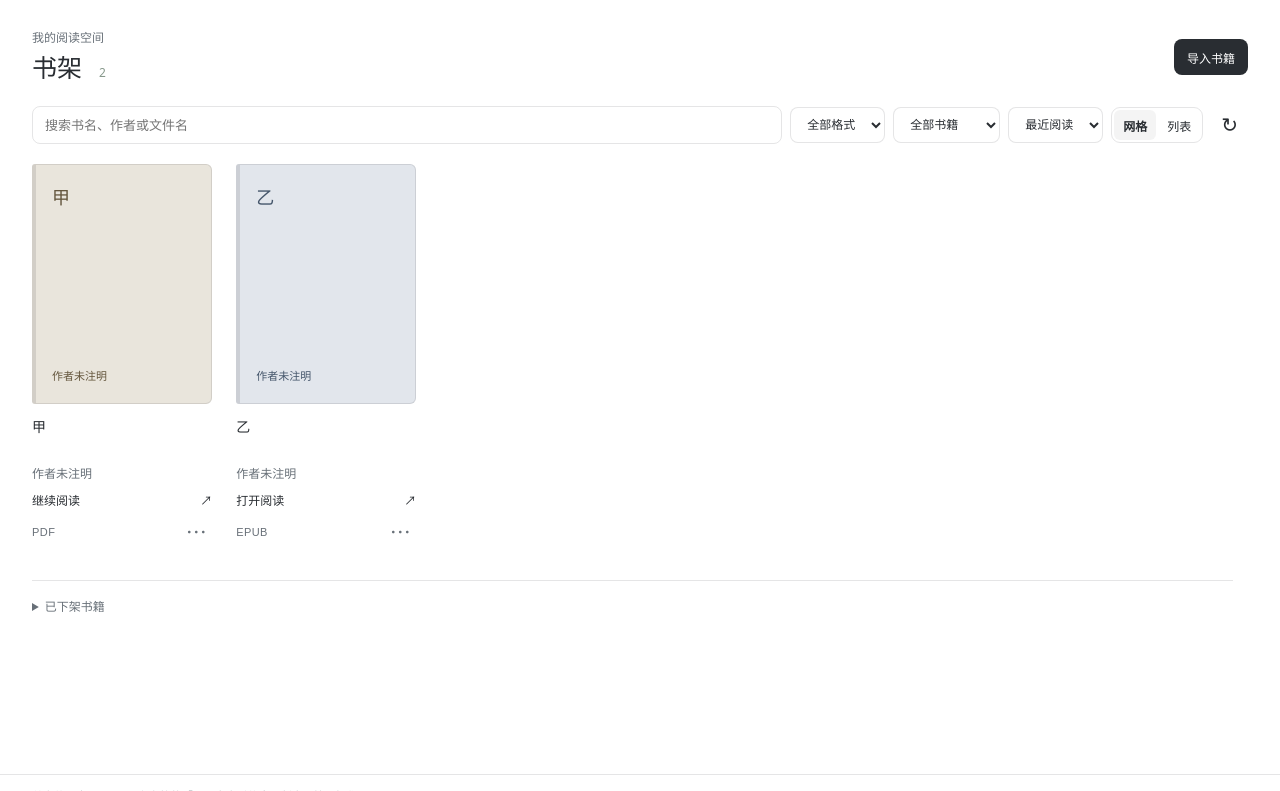
格式、阅读状态与列表组合筛选可清空，书架不丢原始记录
The image size is (1280, 791).
Select "EPUB" in the dropdown named "文件格式": coordinates (838, 125) [790,107,885,143]
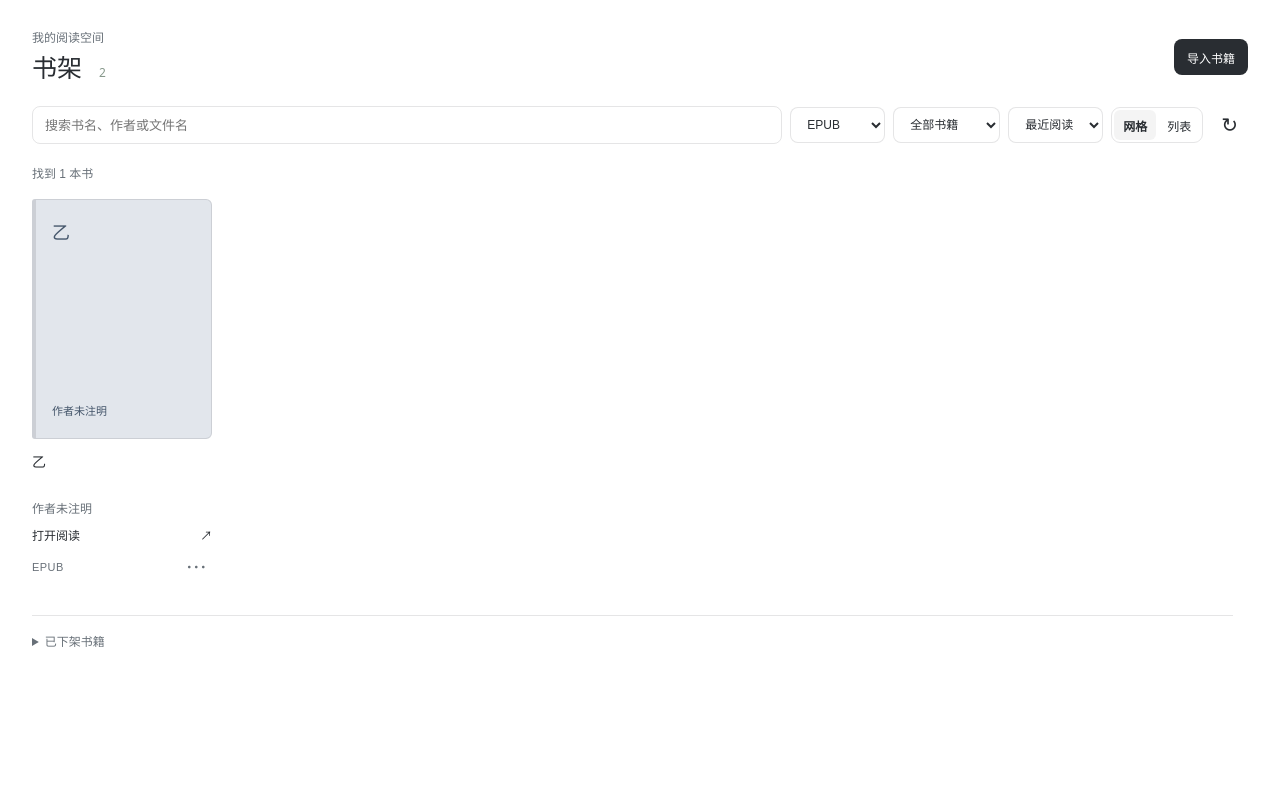
expect the number of elements with class "bookshelf-card" is 1: met, box [32,199,212,583]
Select "有阅读记录" in the dropdown named "阅读状态": coordinates (947, 125) [893,107,1000,143]
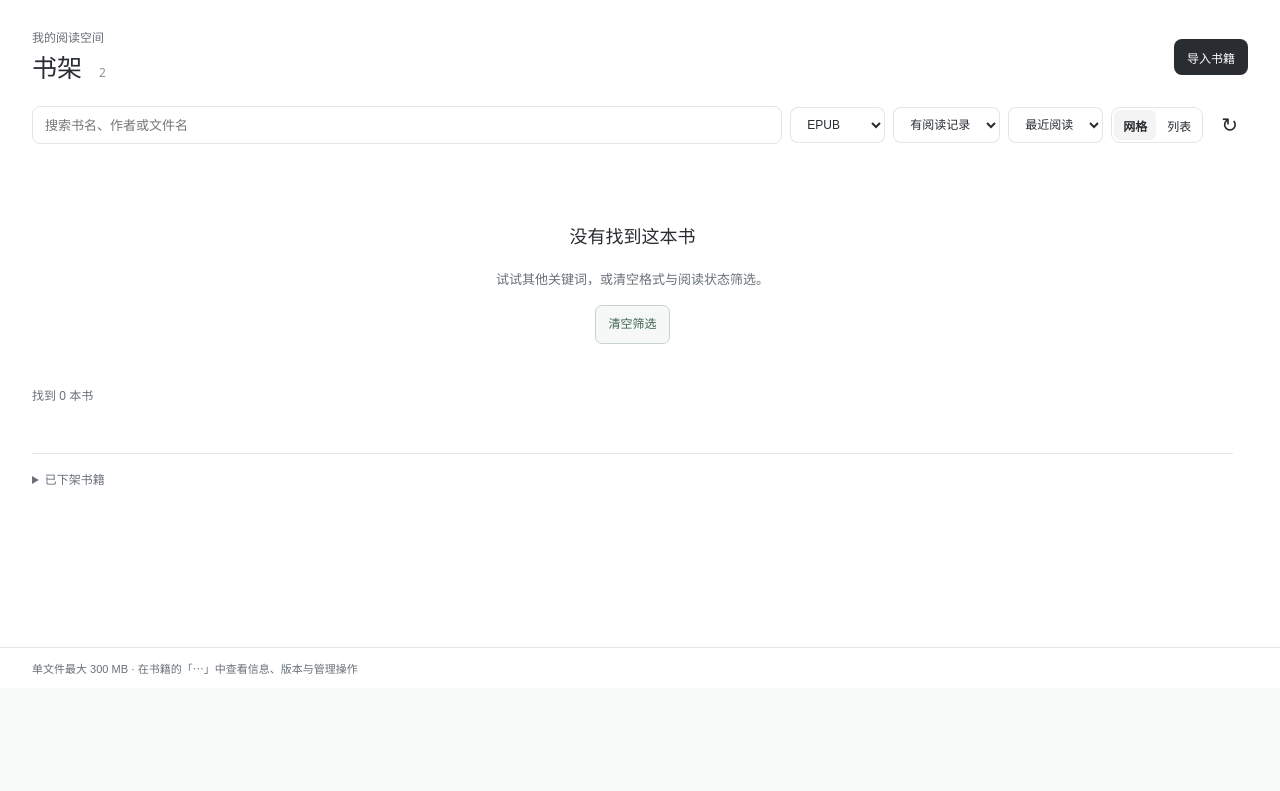
expect the text "没有找到这本书" is shown: met, box [570,227,696,247]
Click the button "清空筛选": coordinates (632, 324) [596,305,670,344]
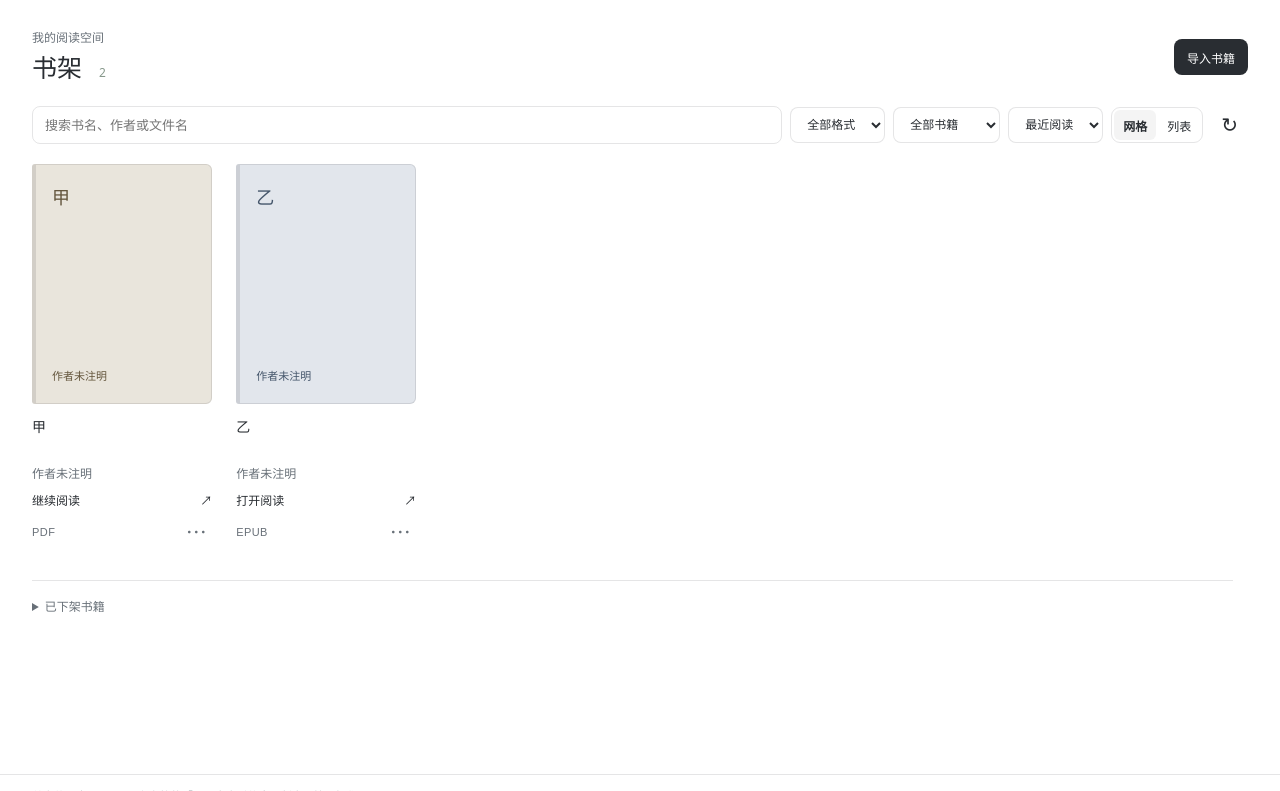
expect the number of elements with class "bookshelf-card" is 2: met, box [32,164,212,548]; [236,164,416,548]
Click the button "列表": coordinates (1179, 125) [1158,110,1200,140]
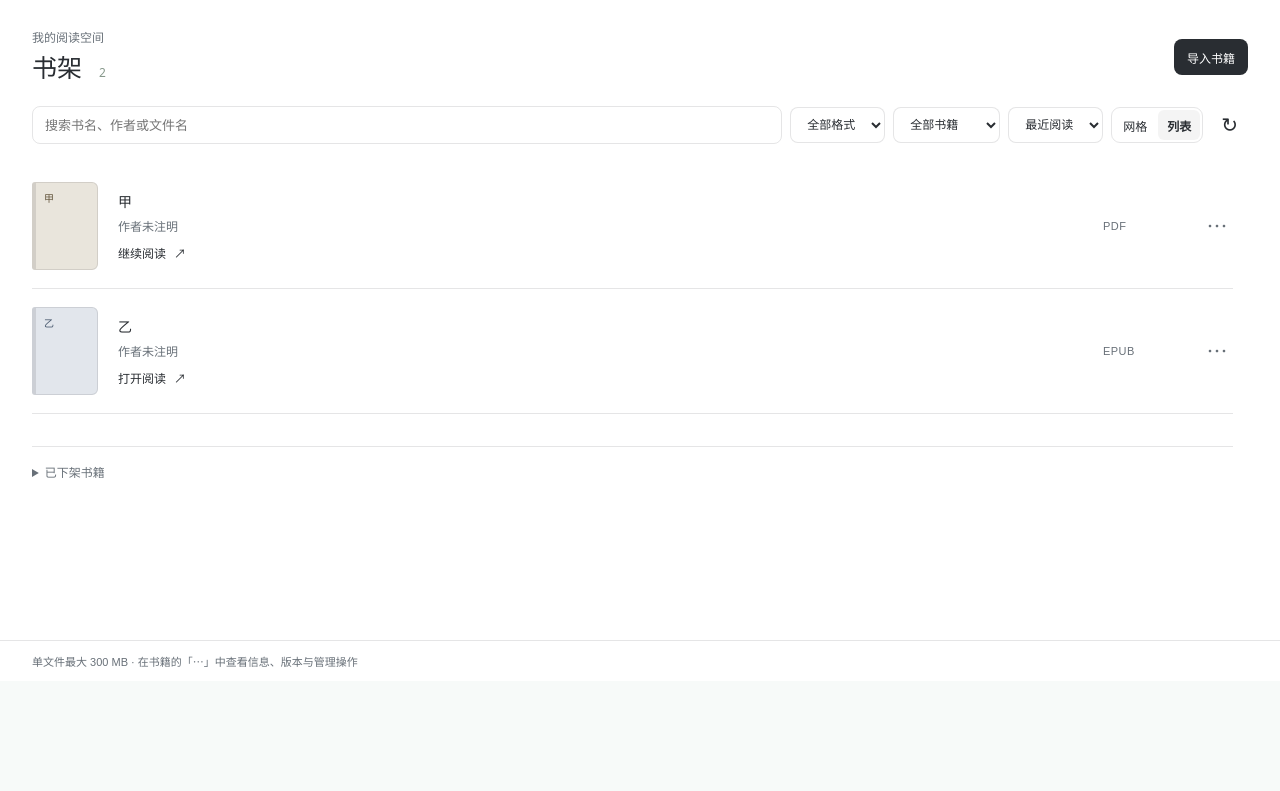
expect the element with class "bookshelf-list" is shown: met, box [32,164,1233,414]
